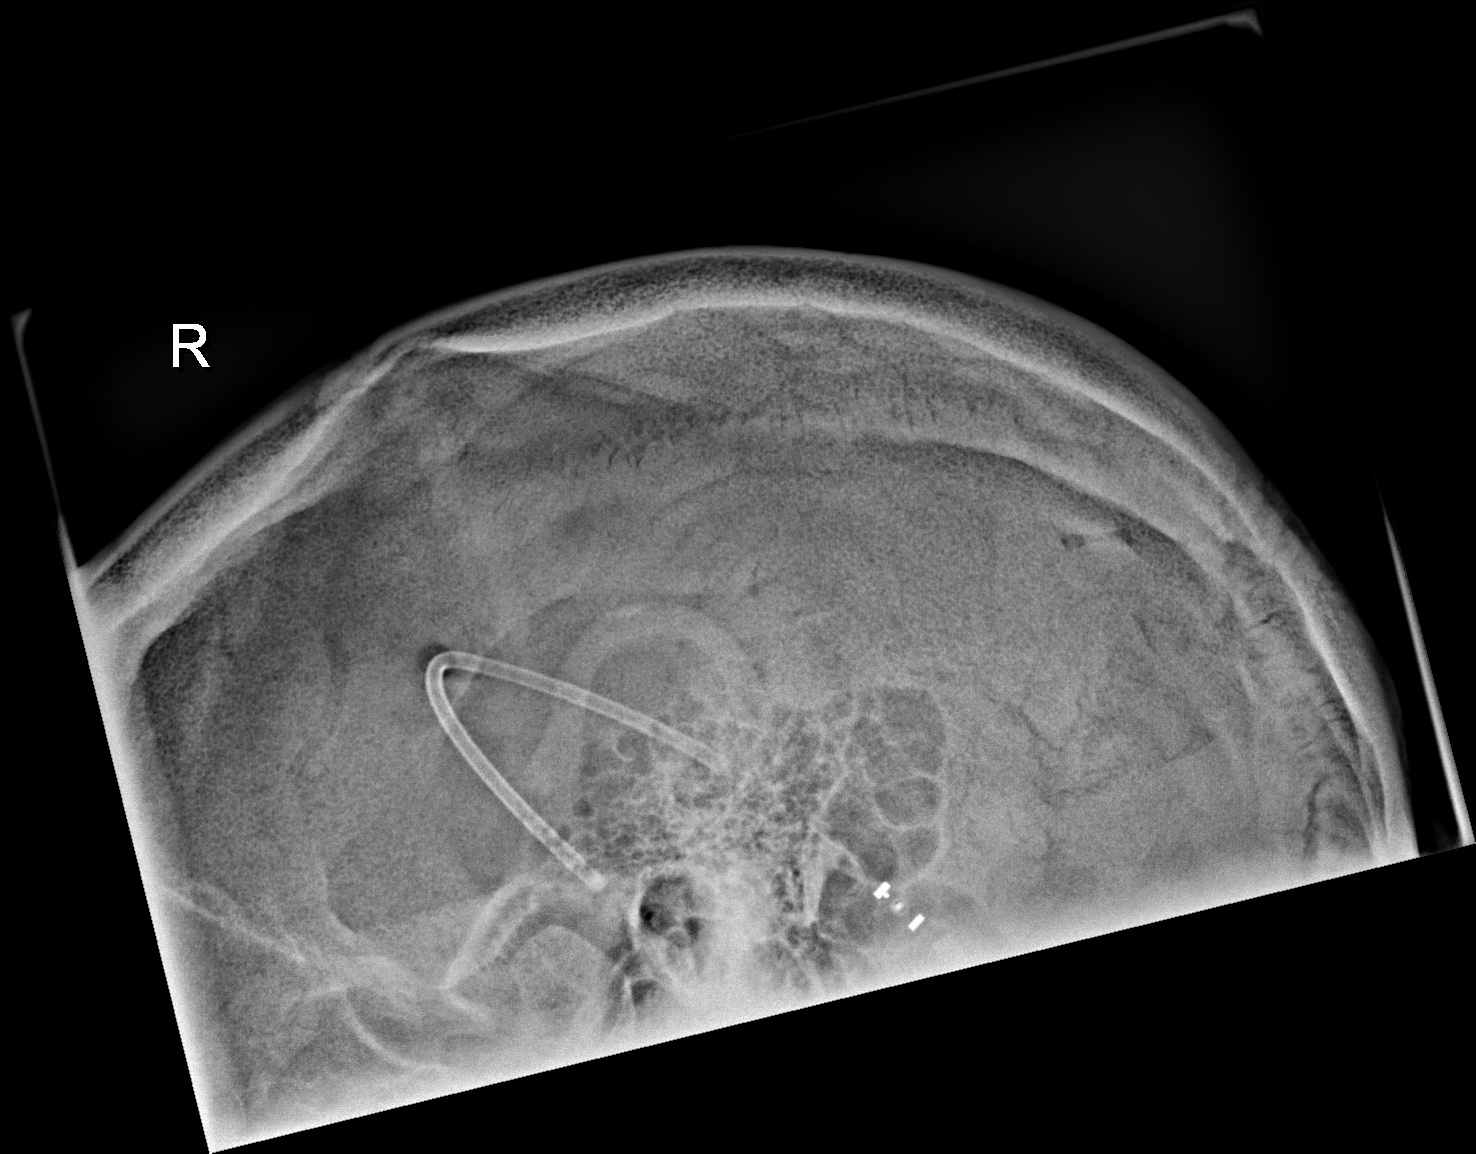Codman Certas: (842, 854, 940, 955)
